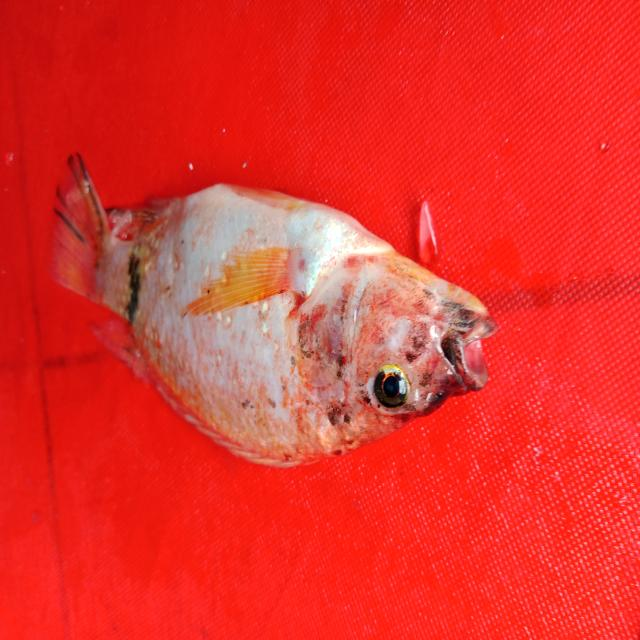ikan: (37, 135, 510, 481)
